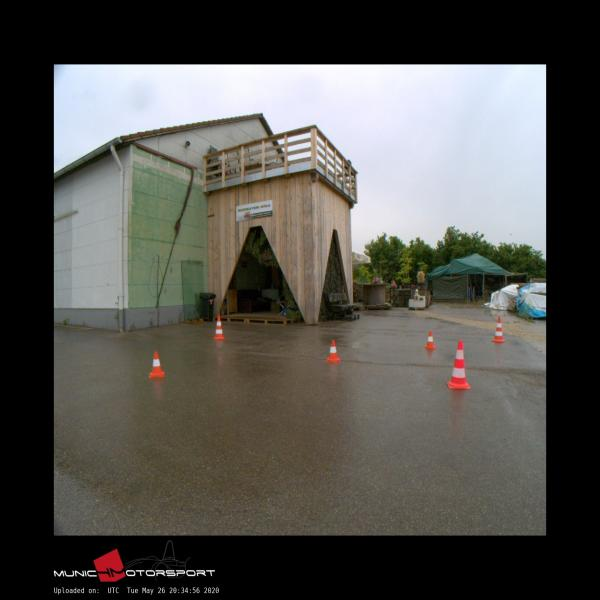large_orange_cone: (446, 340, 470, 389), (491, 316, 504, 342), (214, 314, 224, 338)
orange_cone: (148, 352, 164, 378), (325, 340, 340, 361), (424, 331, 436, 350)
